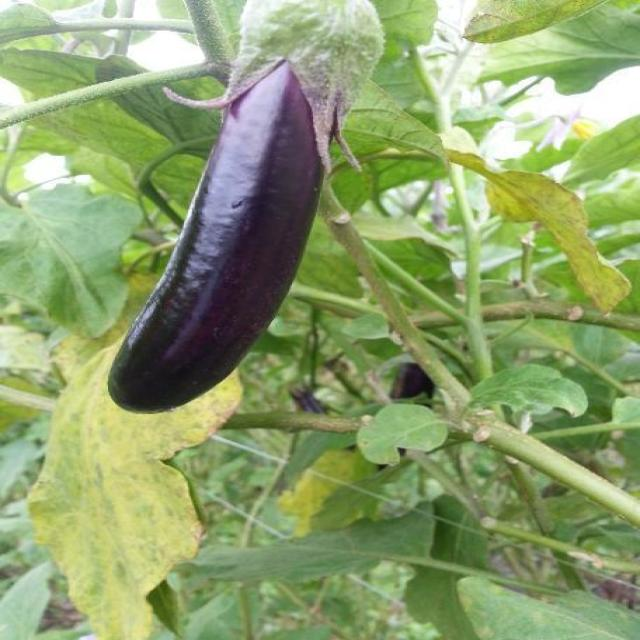eggplant: (98, 0, 388, 422)
